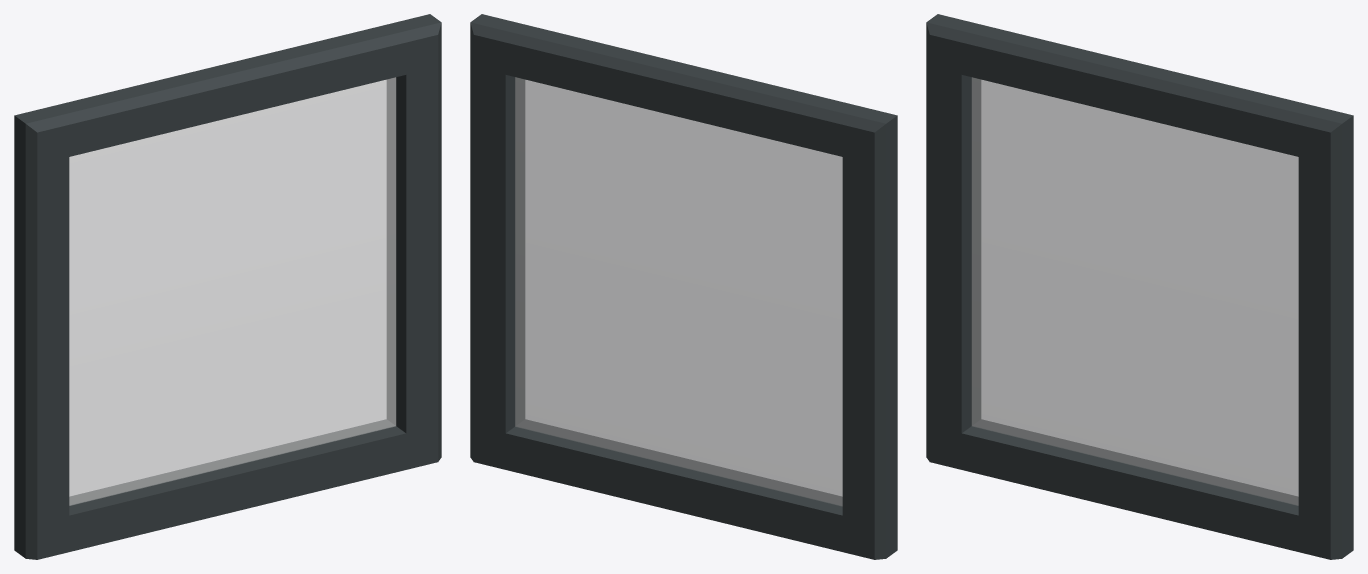
Rendered from Wall Glass Grey.fbx.
3 views of the same model, side by side, from view 1: azimuth 30°, elevation 25°; view 2: azimuth 150°, elevation 25°; view 3: azimuth 330°, elevation 25° (orthographic).
Parts seen in each view (by area): view 1: Wall Glass Clear; view 2: Wall Glass Clear; view 3: Wall Glass Clear.
Part boxes in pixels (<box>): Wall Glass Clear: <box>14,14,441,559</box>; Wall Glass Clear: <box>470,14,897,559</box>; Wall Glass Clear: <box>926,14,1353,559</box>.
Bounding box in the file's own units: 400 × 400 × 32.41.
